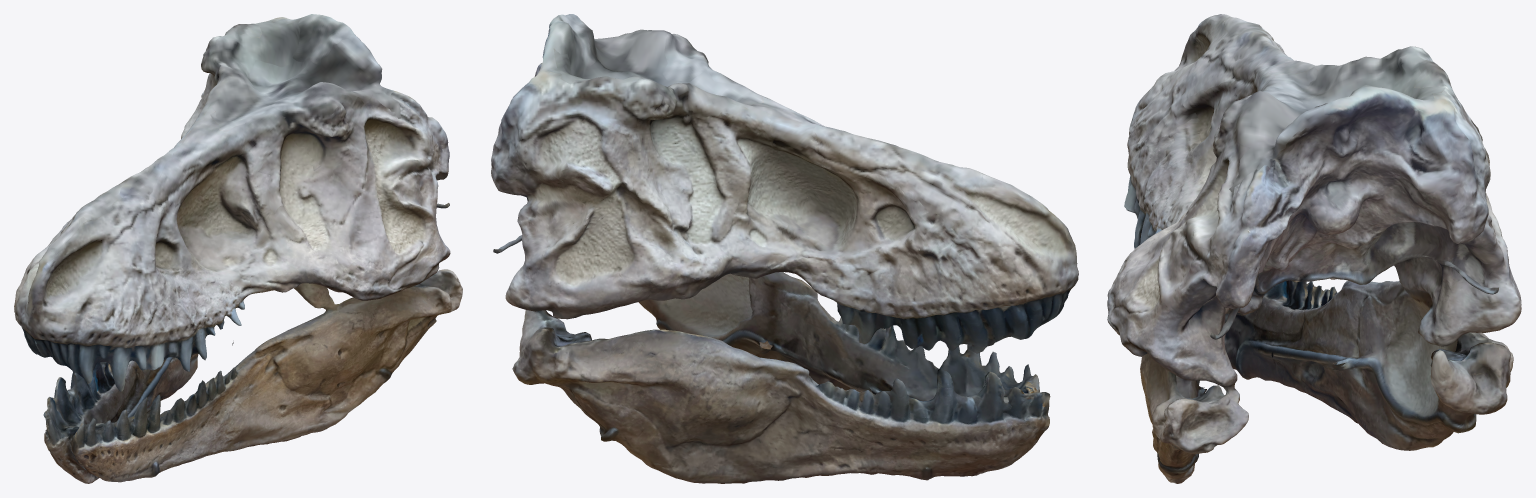
File: skull.glb
3 renders of one model, left to right at view 1: azimuth 30°, elevation 25°; view 2: azimuth 150°, elevation 25°; view 3: azimuth 270°, elevation 25°, orthographic. The views are drawn at different scales.
Parts seen in each view (by area): view 1: Object_2; view 2: Object_2; view 3: Object_2.
Part boxes in pixels (<box>): Object_2: <box>14,14,462,483</box>; Object_2: <box>491,14,1078,483</box>; Object_2: <box>1107,14,1521,483</box>.
Bounding box in the file's own units: 1.39 × 1.06 × 0.8778.
1 material, 1 textured.
